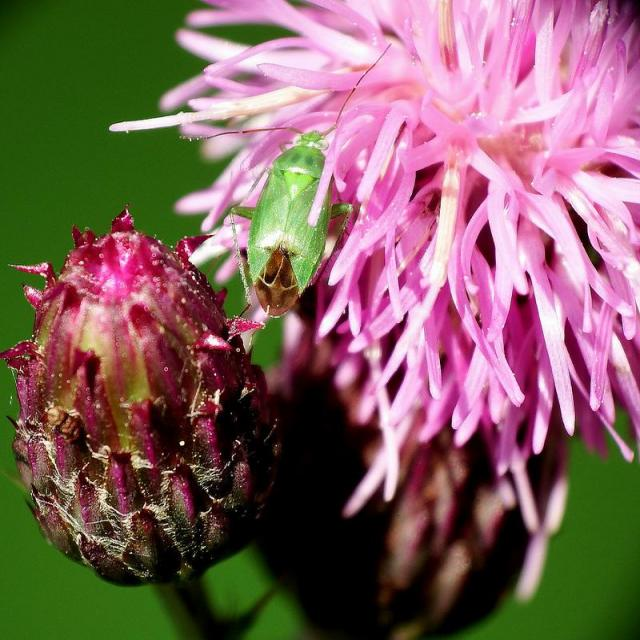Miridae-Adult-: (201, 57, 372, 326)
